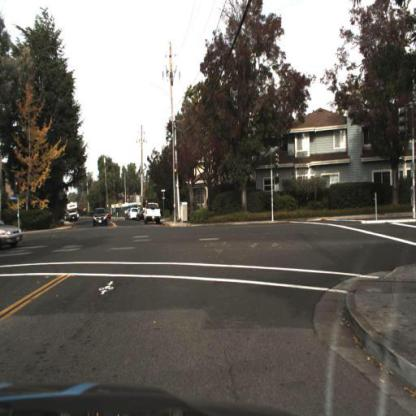car: (1, 217, 25, 254), (1, 213, 23, 250), (142, 201, 164, 228), (93, 208, 109, 227)
trafficLight-Red: (174, 158, 182, 182), (174, 166, 180, 184)
truck: (67, 202, 80, 226)
